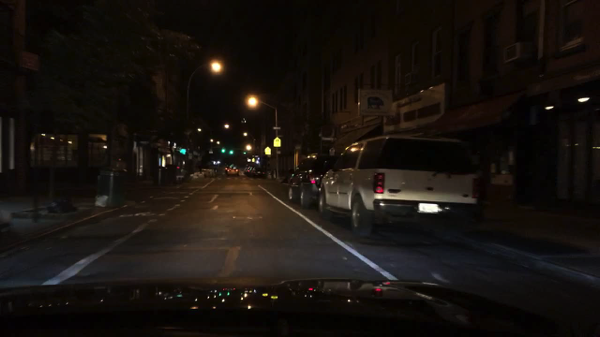car: (316, 133, 483, 239), (287, 153, 337, 210), (252, 166, 266, 180), (227, 164, 240, 176), (249, 166, 256, 178), (224, 166, 232, 175), (247, 166, 252, 177), (243, 165, 248, 175)
traffic light: (221, 147, 225, 153), (230, 149, 233, 155), (243, 149, 246, 155)
traffic sign: (272, 136, 281, 147), (264, 147, 272, 155), (273, 126, 281, 130), (251, 157, 255, 163), (209, 149, 213, 154), (276, 151, 281, 154)
